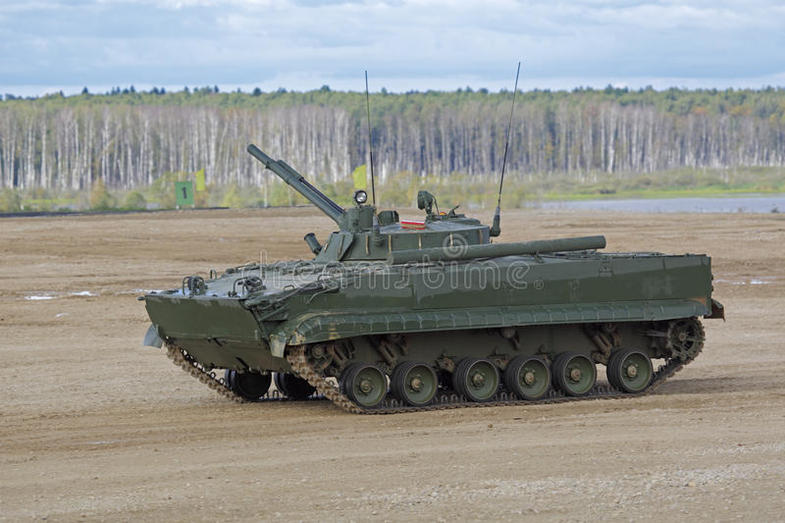bmp: (144, 224, 716, 406)
